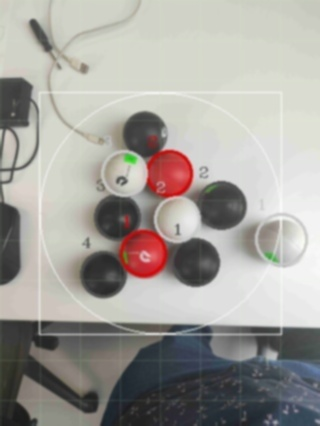Pelota blanca: (44, 0, 142, 75), (252, 212, 310, 270), (196, 180, 249, 230), (169, 236, 219, 288), (98, 148, 147, 198), (79, 249, 126, 299), (121, 110, 169, 158), (153, 196, 201, 243)
Pelota negra: (100, 337, 320, 425), (172, 236, 222, 288), (79, 249, 126, 299), (92, 196, 142, 240), (0, 398, 36, 425)
Pelota roja: (119, 228, 169, 280), (145, 148, 193, 198)
